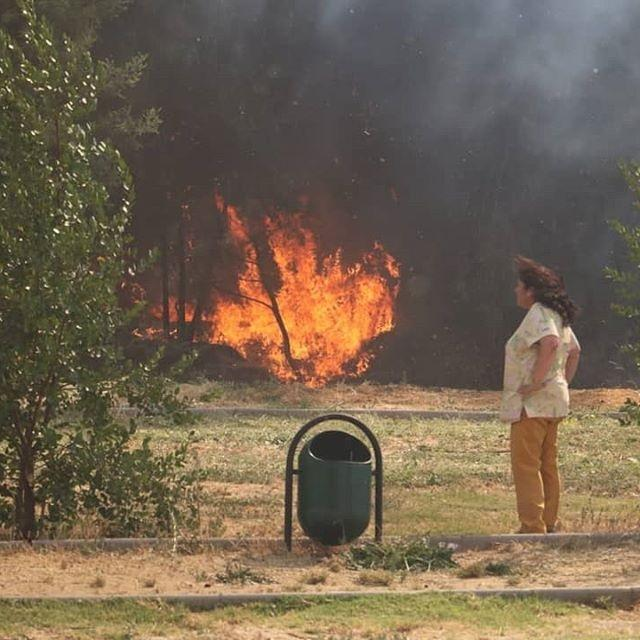fire: (212, 211, 409, 384)
smoke: (210, 5, 630, 202)
